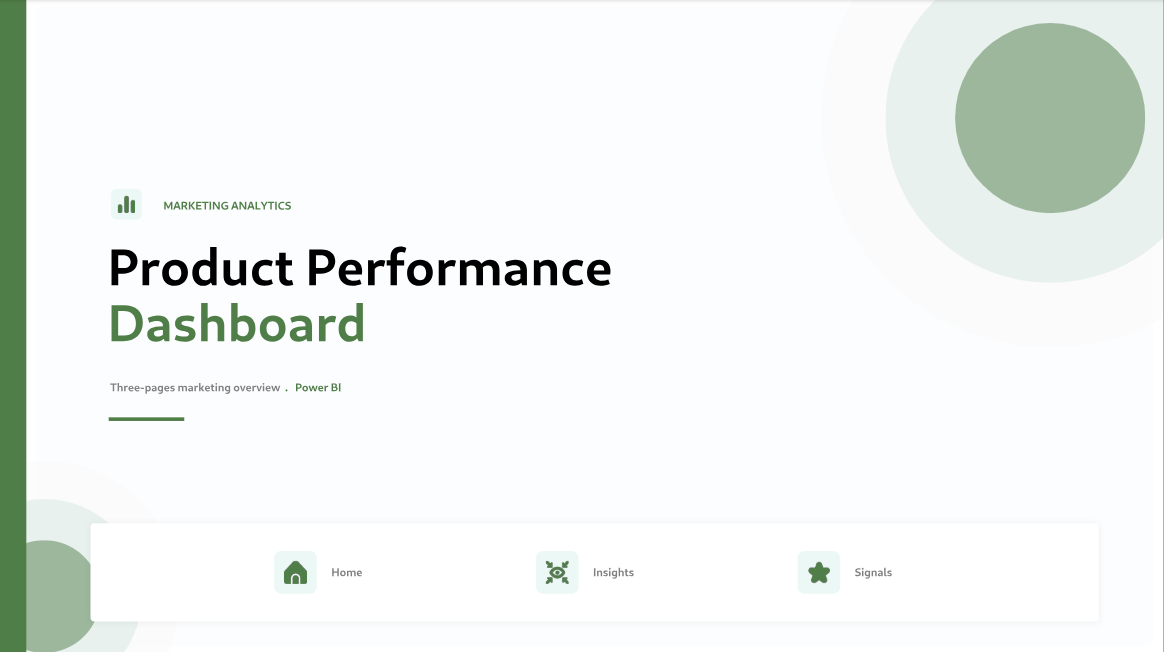

The page's visual inventory and layout, read from the dashboard file:
{"tool":"powerbi","page":{"name":"Dash","canvas":[1280,720],"ordinal":0},"visuals":[{"type":"actionButton","box":[581.1,596.7,135.6,67.8],"z":0},{"type":"actionButton","box":[291.1,596.7,135.6,67.8],"z":1000},{"type":"actionButton","box":[867.8,596.7,135.6,67.8],"z":2000}]}

Visuals, with their boxes in screenshot pixels (x1, y1, x2, y2), scaled from the page's 1280x720 canvas onto the 1164x652 screenshot:
actionButton: pyautogui.locateOnScreen(528, 540, 652, 602)
actionButton: pyautogui.locateOnScreen(265, 540, 388, 602)
actionButton: pyautogui.locateOnScreen(789, 540, 912, 602)
